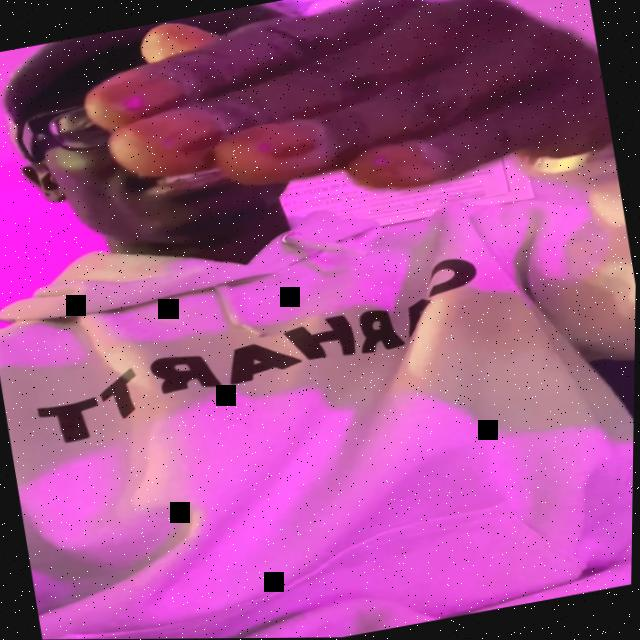Paper: (71, 0, 616, 250)
